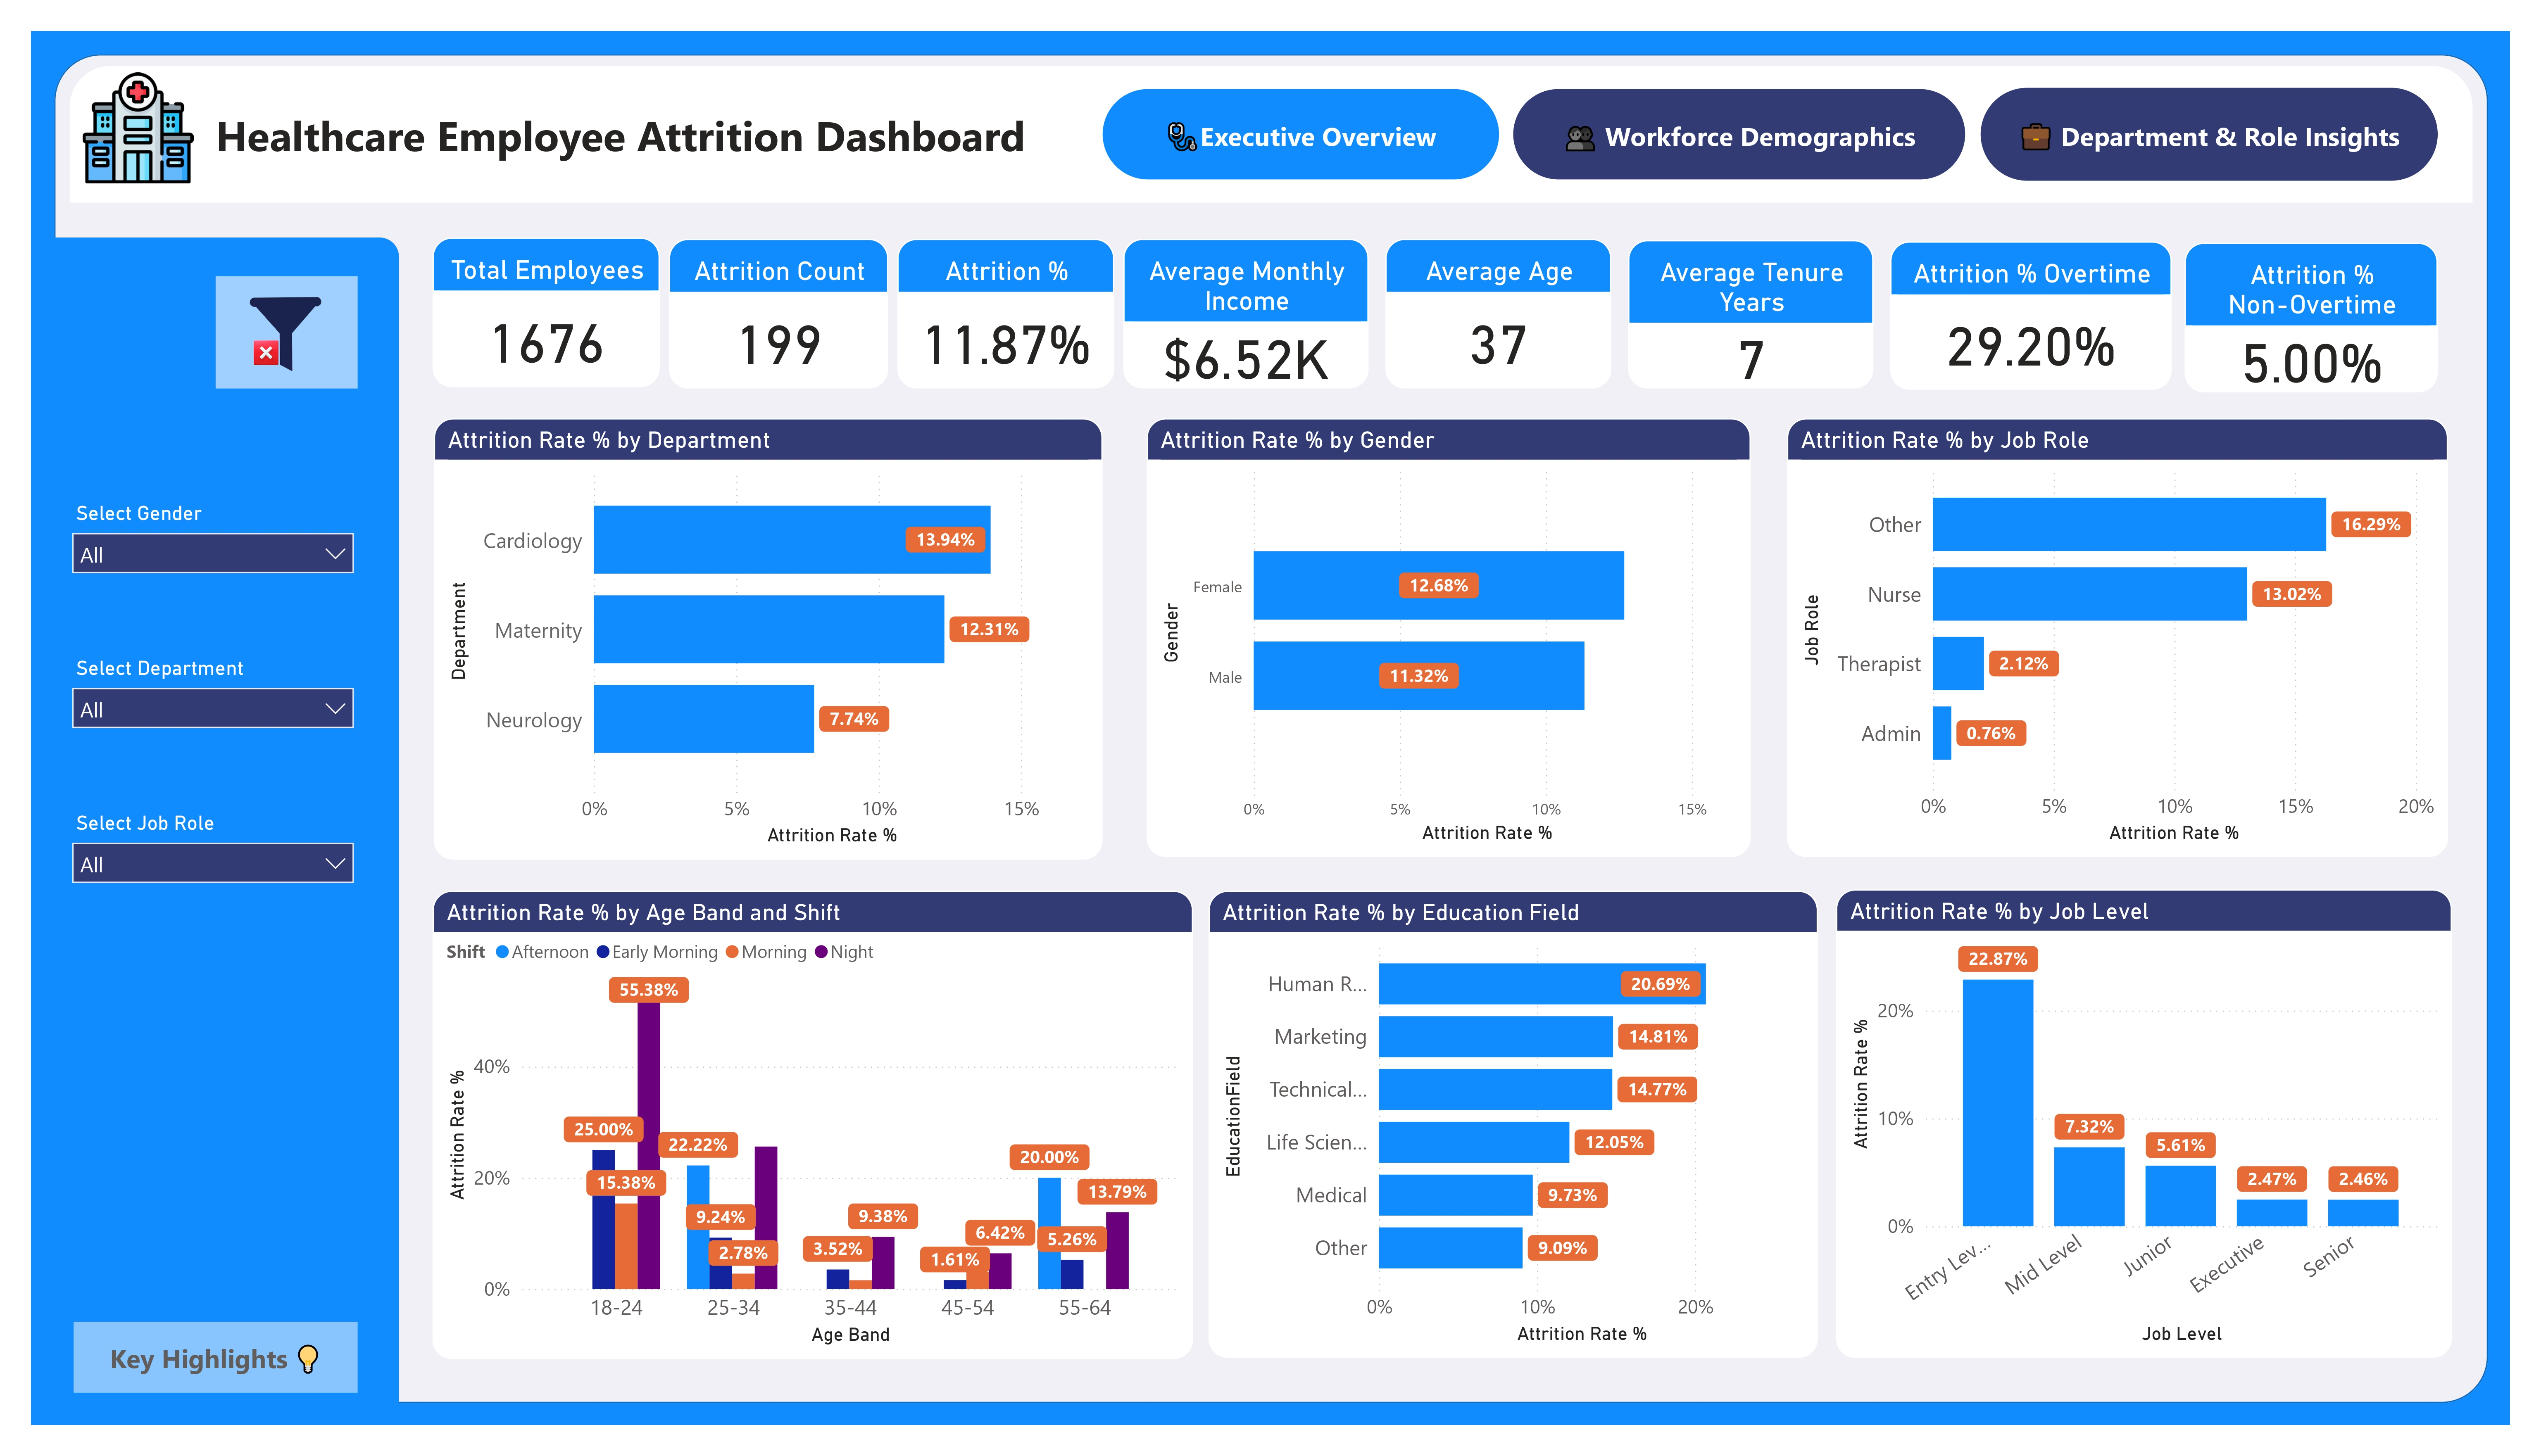

The dashboard page shown, as its layout file describes it:
{"tool":"powerbi","page":{"name":"Summary","canvas":[1920,1080],"ordinal":0},"visuals":[{"type":"shape","box":[17.5,17.5,1885,1045],"z":0},{"type":"shape","box":[30,27.1,1861.4,105.7],"z":1000},{"type":"shape","box":[0,160,285,920],"z":2000},{"type":"card","title":"Total Employees","fields":{"Values":["Fact_EmployeeAttrition.Total Employees"]},"box":[311.4,160,175.7,115.7],"z":3000},{"type":"card","title":"Attrition Count","fields":{"Values":["Fact_EmployeeAttrition.Attrition Count"]},"box":[494.4,161.1,170,115.7],"z":4000},{"type":"card","title":"Attrition %","fields":{"Values":["Fact_EmployeeAttrition.Attrition Rate %"]},"box":[671,161,167.8,115.6],"z":5000},{"type":"card","title":"Average Monthly Income","fields":{"Values":["Fact_EmployeeAttrition.Average Monthly Income"]},"box":[846,161,190,116],"z":6000},{"type":"card","title":"Average Age","fields":{"Values":["Fact_EmployeeAttrition.Average Age"]},"box":[1049,161,175,116],"z":7000},{"type":"card","title":"Average Tenure Years","fields":{"Values":["Fact_EmployeeAttrition.Average Tenure Years"]},"box":[1236.7,161.7,190,115],"z":8000},{"type":"card","title":"Attrition % Overtime","fields":{"Values":["Dim_Employee.Attrition % Overtime"]},"box":[1440,163.3,217.5,115],"z":9000},{"type":"barChart","fields":{"Category":["Dim_Employee.Department"],"Y":["Fact_EmployeeAttrition.Attrition Rate %"]},"box":[312,300,518,342],"z":10000},{"type":"barChart","fields":{"Category":["Dim_Employee.JobRole"],"Y":["Fact_EmployeeAttrition.Attrition Rate %"]},"box":[1360,300,512,340],"z":11000},{"type":"barChart","fields":{"Category":["Dim_Employee.Gender"],"Y":["Fact_EmployeeAttrition.Attrition Rate %"]},"box":[864,300,468,340],"z":12000},{"type":"clusteredColumnChart","title":"Attrition Rate % by Job Level","fields":{"Category":["Dim_Employee.JoblevelLabel"],"Y":["Fact_EmployeeAttrition.Attrition Rate %"]},"box":[1397.5,665,477.5,362.5],"z":13000},{"type":"barChart","title":"Attrition Rate % by Education Field","fields":{"Category":["Dim_Education.EducationField"],"Y":["Fact_EmployeeAttrition.Attrition Rate %"]},"box":[912,666,472,362],"z":14000},{"type":"lineClusteredColumnComboChart","fields":{"Category":["Dim_Employee.Age Band"],"Series":["Dim_Employee.ShiftLabel"],"Y":["Fact_EmployeeAttrition.Attrition Rate %"]},"box":[311.4,665.7,588.6,362.9],"z":15000},{"type":"slicer","fields":{"Values":["Dim_Employee.Gender"]},"box":[15.8,352.5,250,75],"z":16000},{"type":"slicer","fields":{"Values":["Dim_Employee.JobRole"]},"box":[15.8,592.5,250,75],"z":17000},{"type":"slicer","fields":{"Values":["Dim_Employee.Department"]},"box":[15.8,472.5,250,75],"z":18000},{"type":"actionButton","title":"Key Highlights 💡","box":[32.5,1000,220,55],"z":20000},{"type":"image","box":[22.9,27.1,120,95.7],"z":21000},{"type":"image","box":[143.3,190,110,86.7],"z":22000},{"type":"textbox","box":[137.5,52.5,740,55],"z":23000},{"type":"actionButton","box":[830,45,306.7,70],"z":24000},{"type":"actionButton","box":[1148.3,45,350,70],"z":25000},{"type":"actionButton","box":[1510,44.3,354.3,71.4],"z":26000},{"type":"card","title":"Attrition % Non-Overtime","fields":{"Values":["Dim_Employee.Attrition % Non-Overtime"]},"box":[1668,164,196,116],"z":27000}]}

Visuals, with their boxes on the page's 1920x1080 design canvas (x1, y1, x2, y2). These are canvas units, not pixel positions in the 2541x1456 screenshot, which may show the page scaled, cropped or inside an application window:
shape: (18, 18, 1902, 1062)
shape: (30, 27, 1891, 133)
shape: (0, 160, 285, 1080)
"Total Employees" card: (311, 160, 487, 276)
"Attrition Count" card: (494, 161, 664, 277)
"Attrition %" card: (671, 161, 839, 277)
"Average Monthly Income" card: (846, 161, 1036, 277)
"Average Age" card: (1049, 161, 1224, 277)
"Average Tenure Years" card: (1237, 162, 1427, 277)
"Attrition % Overtime" card: (1440, 163, 1658, 278)
barChart - Dim_Employee.Department x Fact_EmployeeAttrition.Attrition Rate %: (312, 300, 830, 642)
barChart - Dim_Employee.JobRole x Fact_EmployeeAttrition.Attrition Rate %: (1360, 300, 1872, 640)
barChart - Dim_Employee.Gender x Fact_EmployeeAttrition.Attrition Rate %: (864, 300, 1332, 640)
"Attrition Rate % by Job Level" clusteredColumnChart: (1398, 665, 1875, 1028)
"Attrition Rate % by Education Field" barChart: (912, 666, 1384, 1028)
lineClusteredColumnComboChart - Dim_Employee.Age Band x Dim_Employee.ShiftLabel: (311, 666, 900, 1029)
slicer - Dim_Employee.Gender: (16, 352, 266, 428)
slicer - Dim_Employee.JobRole: (16, 592, 266, 668)
slicer - Dim_Employee.Department: (16, 472, 266, 548)
"Key Highlights 💡" actionButton: (32, 1000, 252, 1055)
image: (23, 27, 143, 123)
image: (143, 190, 253, 277)
textbox: (138, 52, 878, 108)
actionButton: (830, 45, 1137, 115)
actionButton: (1148, 45, 1498, 115)
actionButton: (1510, 44, 1864, 116)
"Attrition % Non-Overtime" card: (1668, 164, 1864, 280)
